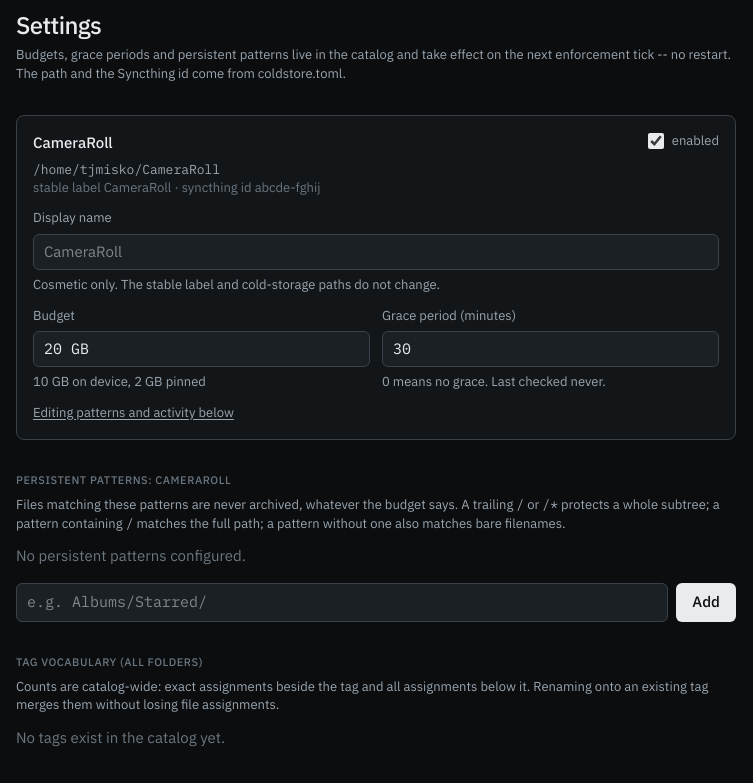
Scenario: ConfigPanel › should refuse a budget the server would reject, without asking it
Replace the text in the field labelled "Budget" with "0 GB". click: (202, 349)
box: [33,331,370,367]
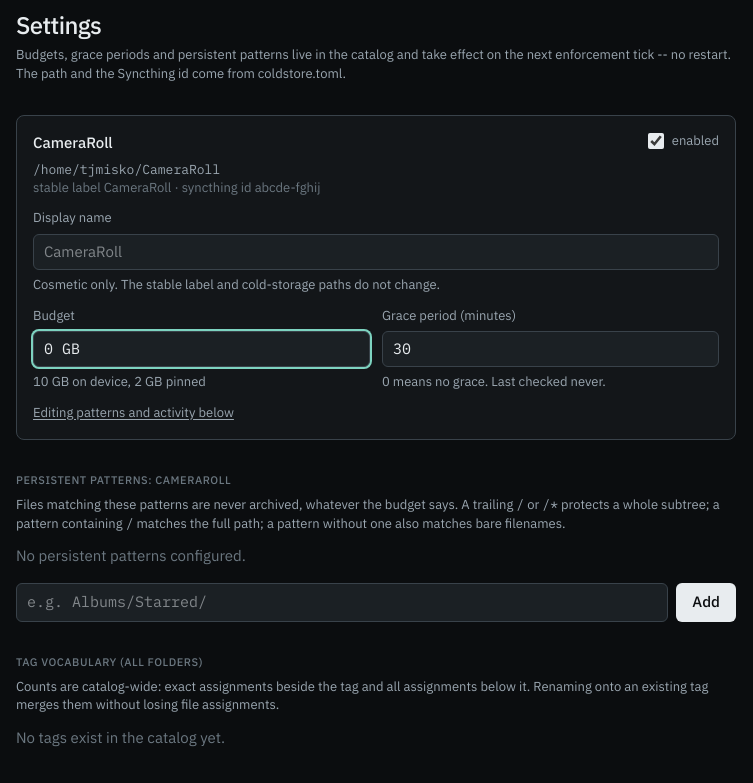
Press Tab
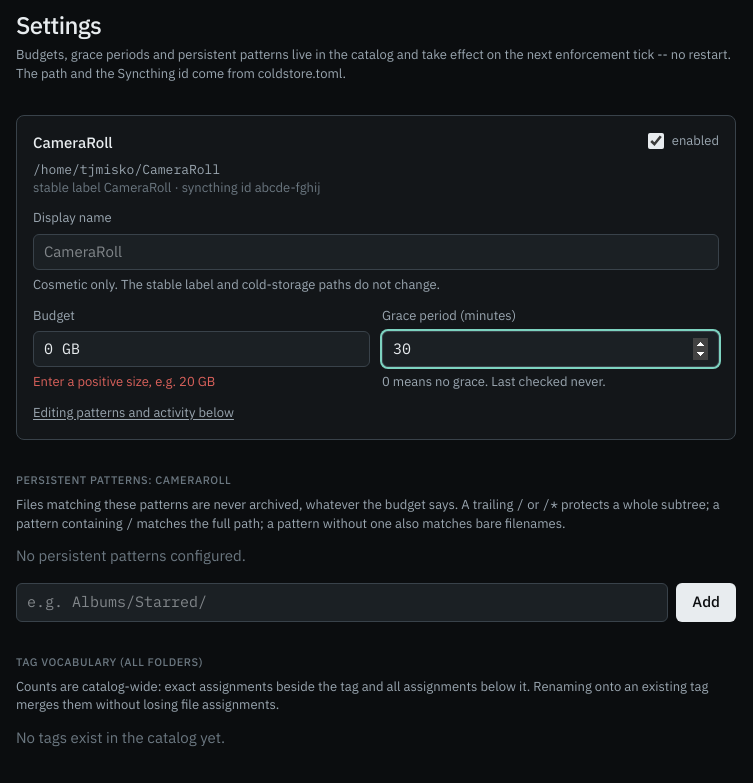
Expected: the text "Enter a positive size, e.g. 20 GB" is shown, [33,373,215,390]
